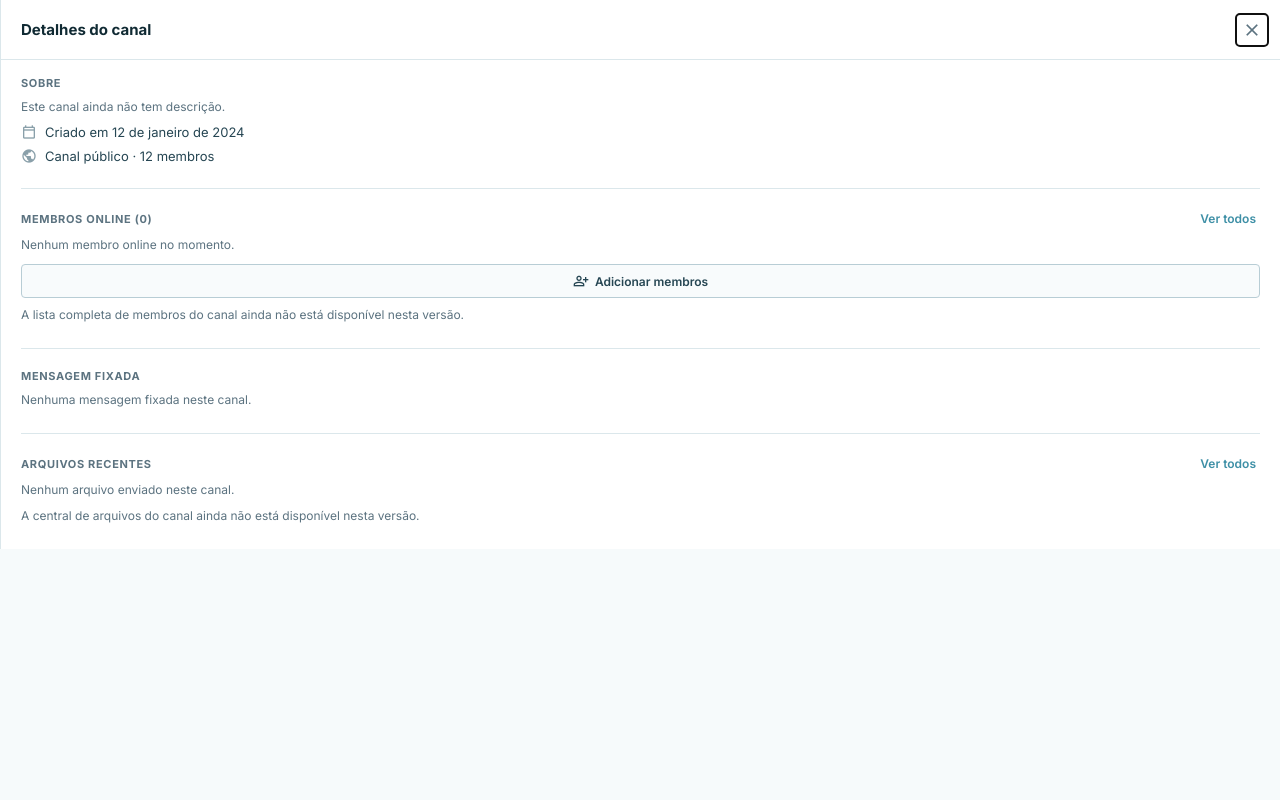
Test: ConversationDetailsPanel — adicionar membros: fluxo › reports an add that changed nothing without claiming a success
Click the button with test id "chat-details-add-members" at [640, 281], box [21,264,1260,298]
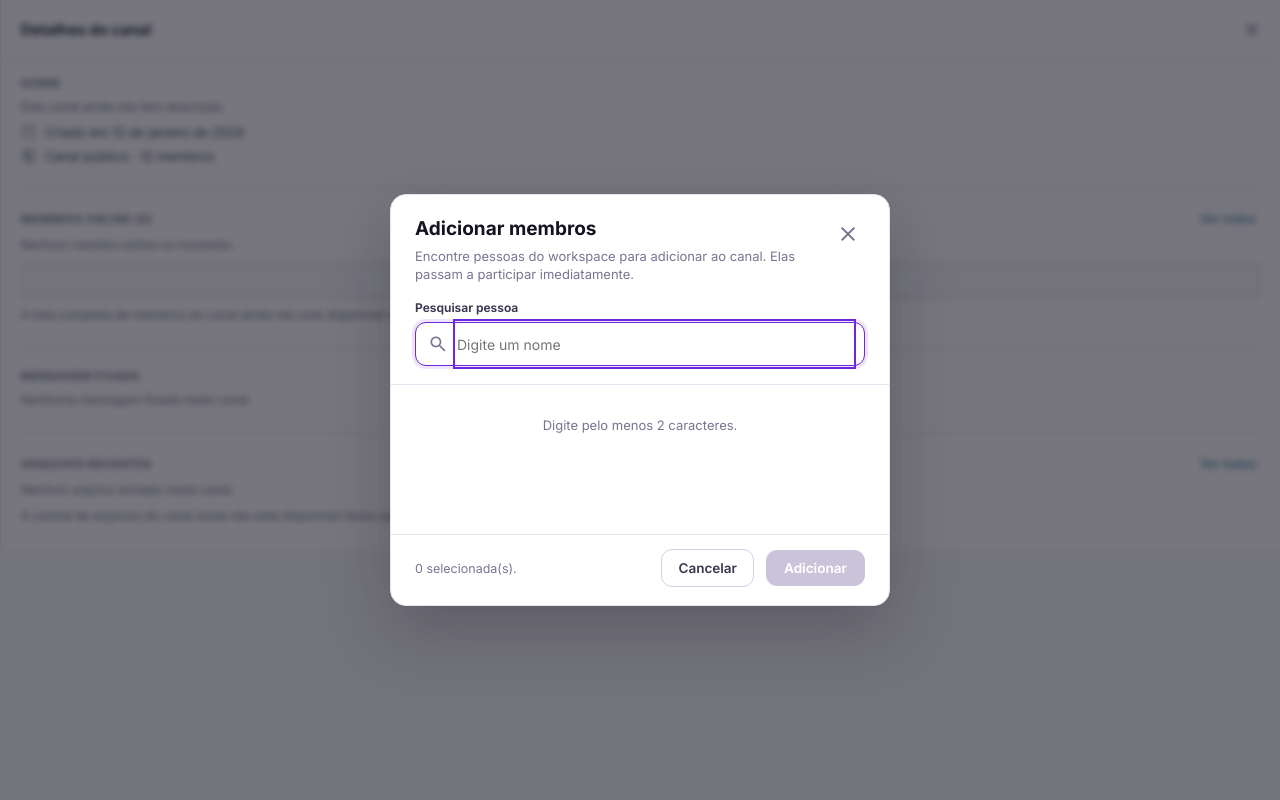
Type "br" into the search field labelled "Pesquisar pessoa" at [654, 344], box [457,323,852,365]
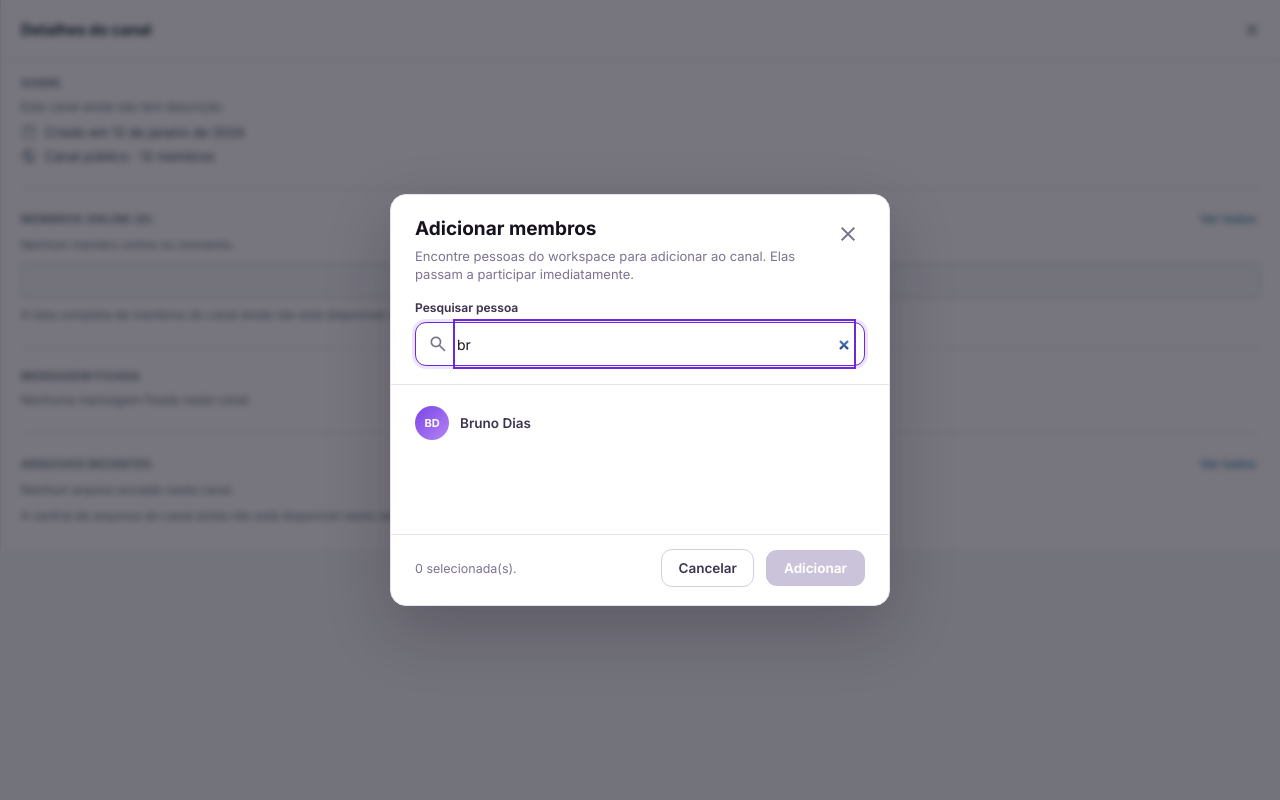
Click the button "BD Bruno Dias" at [432, 423], box [405,397,875,449]
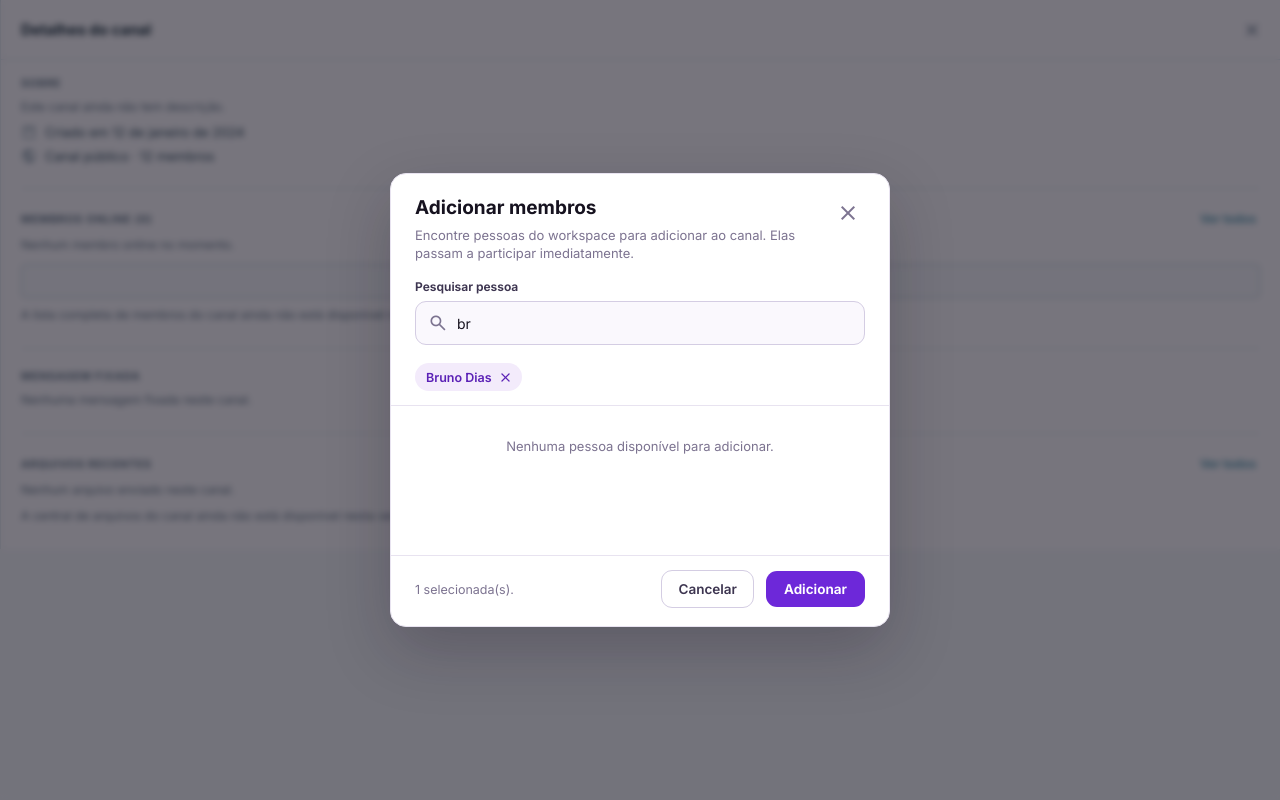
Click the button "Adicionar" at [815, 589], box [766,571,865,607]
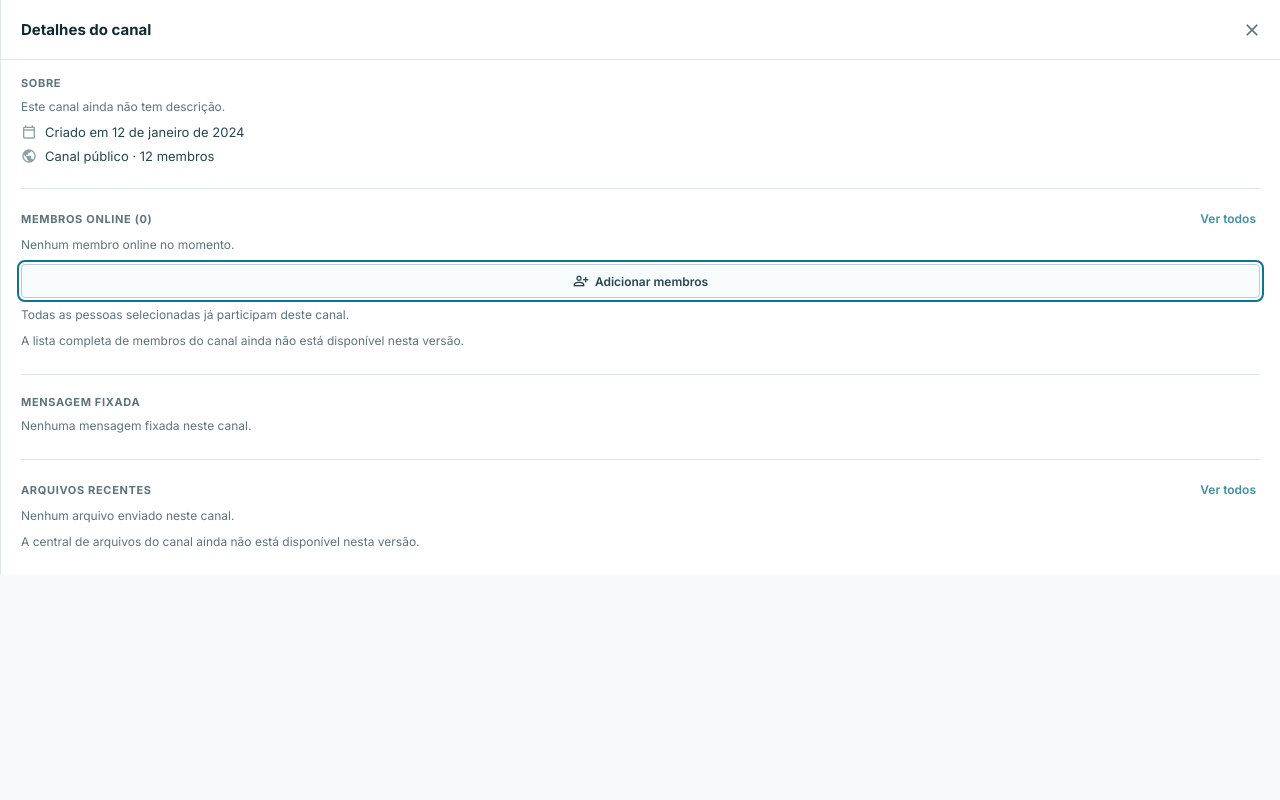
Expected: the text "Todas as pessoas selecionadas já participam deste canal." is shown, [21,307,349,322]
